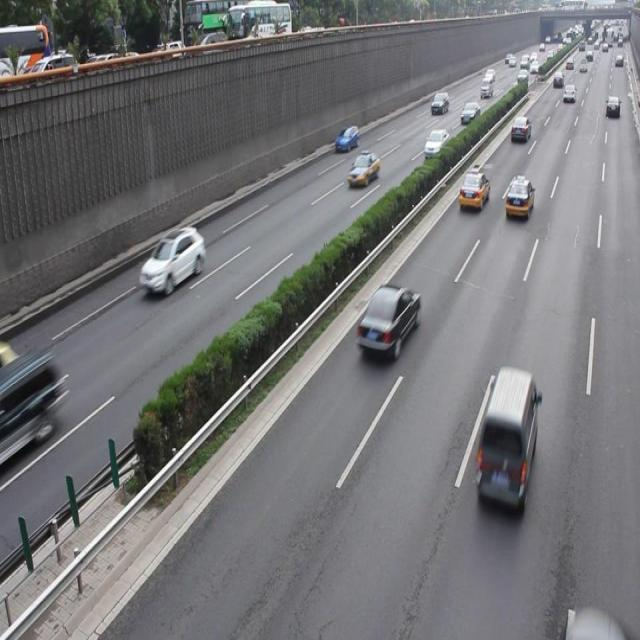car: (1, 347, 63, 459), (357, 281, 420, 359), (139, 226, 206, 294), (565, 599, 639, 640), (503, 176, 533, 220), (458, 169, 489, 211), (348, 150, 380, 188)
truck: (473, 363, 538, 507)
